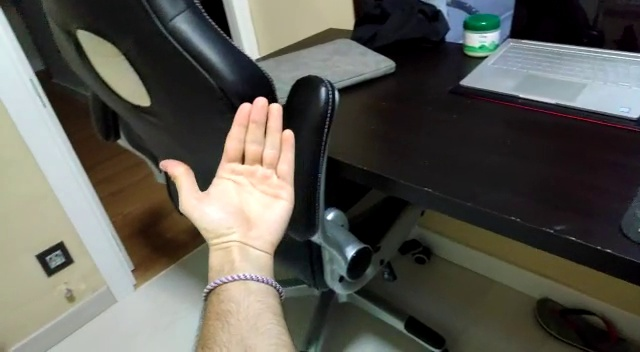Palm: (155, 95, 306, 262)
